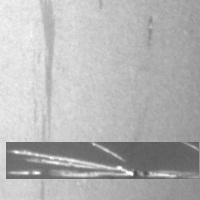inclusion: (31, 1, 62, 179), (143, 13, 159, 54)
scratches: (6, 142, 199, 179)
